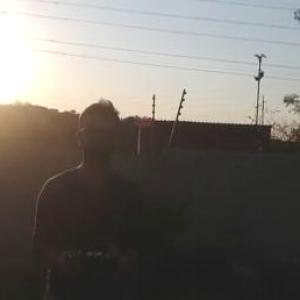follow: (24, 92, 152, 299)
